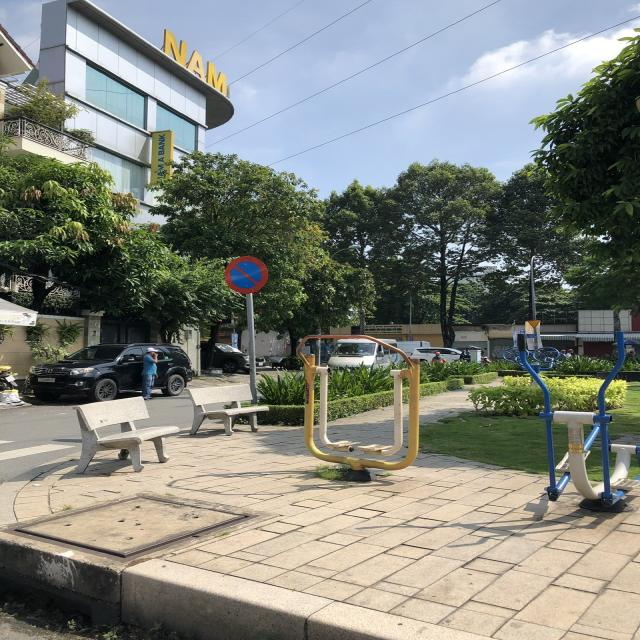Bien bao cam do xe: (215, 252, 280, 298)
